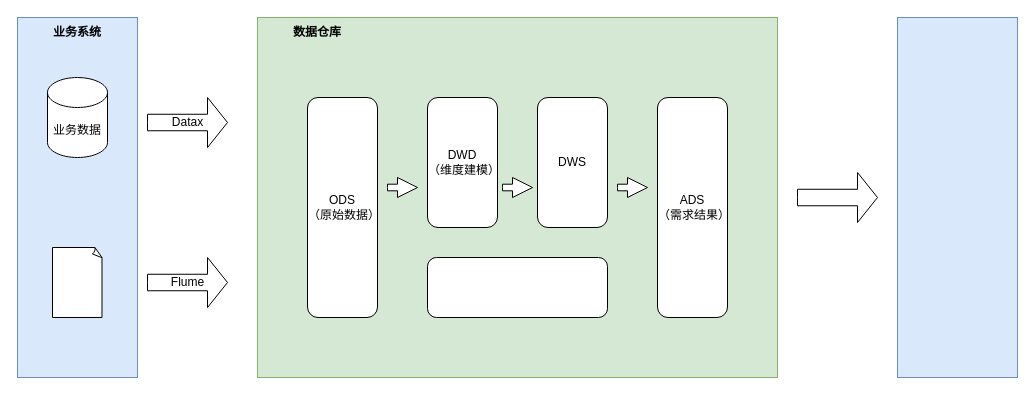
The diagram is 1035 pixels wide and 395 high, and some of its shapes have lost their labels. The centre of each missing label's shape, as x and y in pixels:
"BI系统" belongs at (957,197).
"DIM" belongs at (517,287).
"行为数据" belongs at (77,282).
